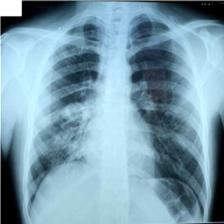tuberculosis: (21, 10, 212, 224)
